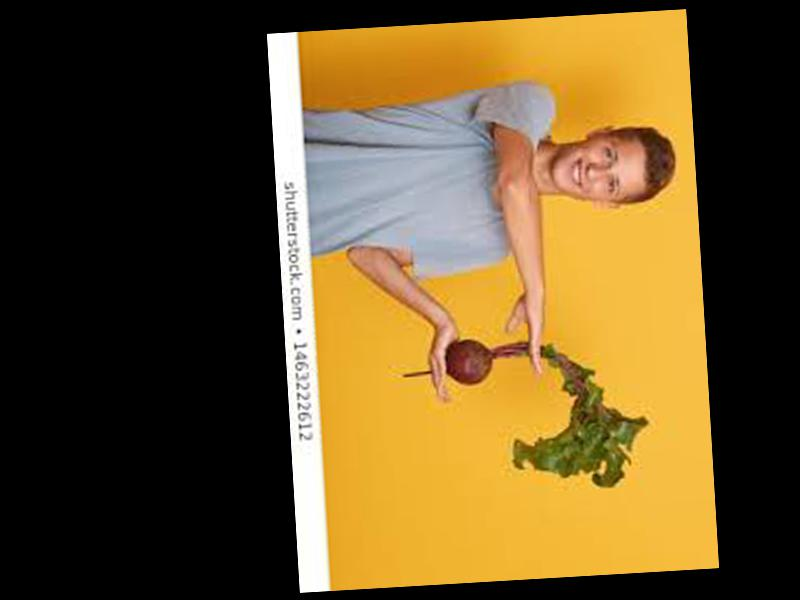Beet: (402, 329, 651, 499)
